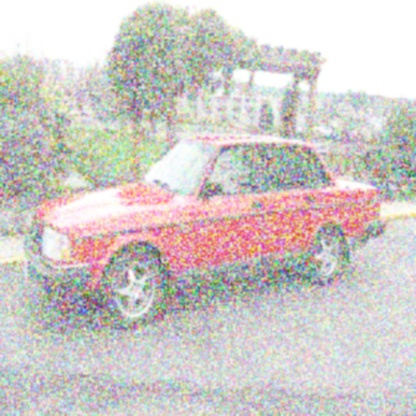Vehicle: (25, 130, 387, 336)
